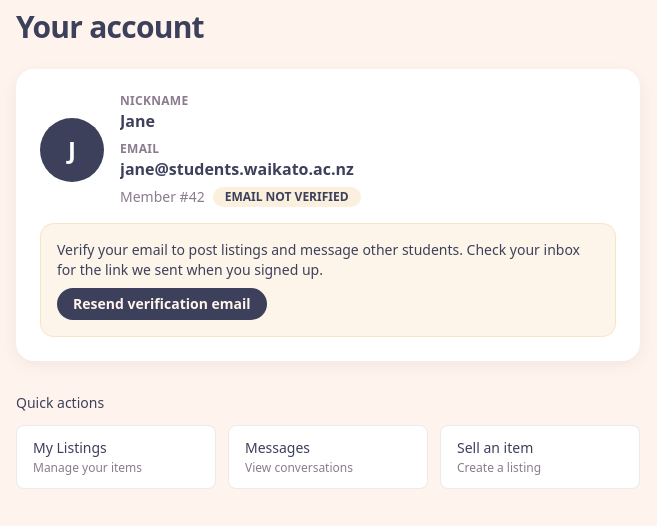
MePage › shows the API error message when resend fails
Click the button "Resend verification email": (162, 304) x1=57 y1=288 x2=266 y2=320
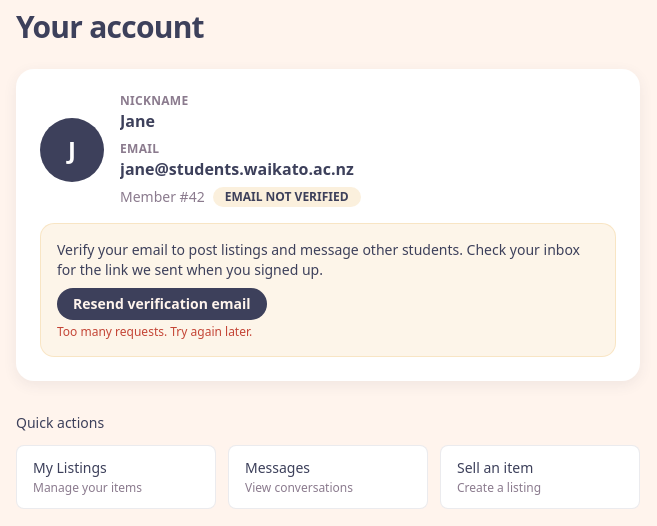
Expected: the text "Too many requests. Try again later." is shown, x1=57 y1=323 x2=252 y2=340
